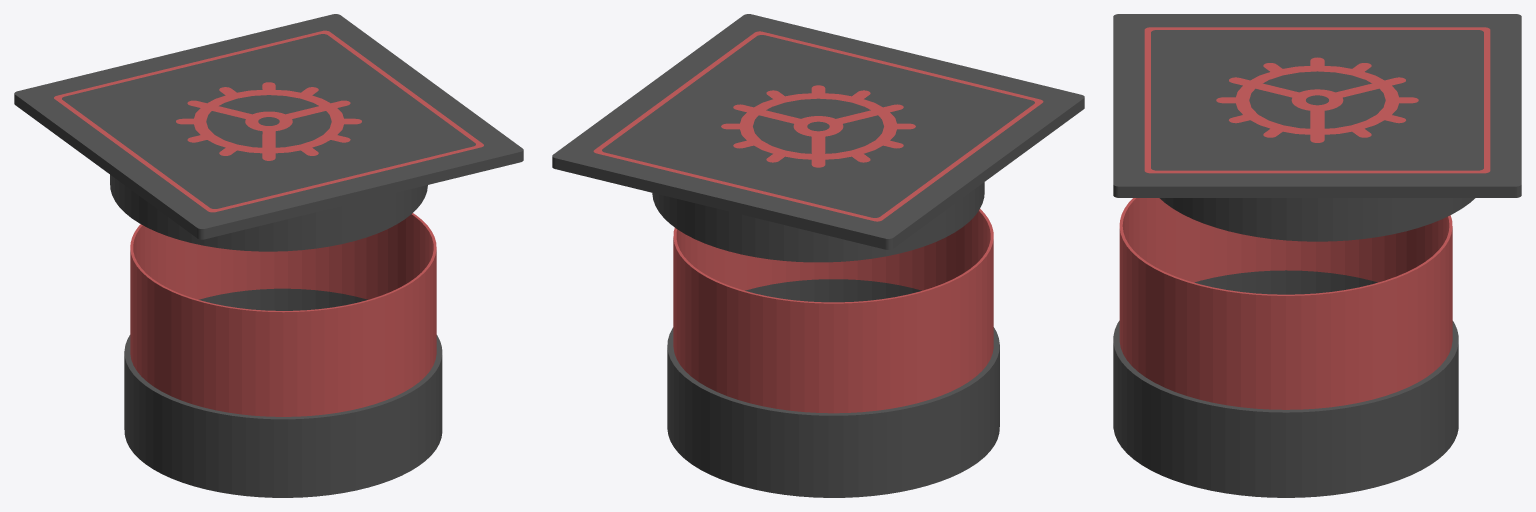
Rendered from bomboniera-ingegneria-facolta-aperto.glb.
3 renders of one model, left to right at view 1: azimuth 30°, elevation 25°; view 2: azimuth 150°, elevation 25°; view 3: azimuth 270°, elevation 25°, orthographic. The views are drawn at different scales.
Visible parts, largest first — view 1: struttura_coperchio, fascia, struttura_base, simbolo_intarsio, bordo; view 2: struttura_coperchio, fascia, struttura_base, simbolo_intarsio, bordo; view 3: struttura_coperchio, fascia, struttura_base, simbolo_intarsio, bordo.
Boxes of the visible parts, left/top/right/bottom form: struttura_coperchio: left=14, top=14, right=523, bottom=251; fascia: left=130, top=213, right=436, bottom=416; struttura_base: left=124, top=288, right=442, bottom=497; simbolo_intarsio: left=176, top=82, right=361, bottom=160; bordo: left=54, top=30, right=483, bottom=212; struttura_coperchio: left=552, top=14, right=1084, bottom=262; fascia: left=673, top=209, right=993, bottom=413; struttura_base: left=667, top=279, right=999, bottom=497; simbolo_intarsio: left=721, top=85, right=915, bottom=167; bordo: left=593, top=31, right=1043, bottom=221; struttura_coperchio: left=1113, top=14, right=1521, bottom=241; fascia: left=1119, top=198, right=1452, bottom=409; struttura_base: left=1113, top=270, right=1458, bottom=497; simbolo_intarsio: left=1216, top=57, right=1418, bottom=142; bordo: left=1144, top=27, right=1490, bottom=173.
Bounding box in the file's own units: 0.065 × 0.057 × 0.065.
